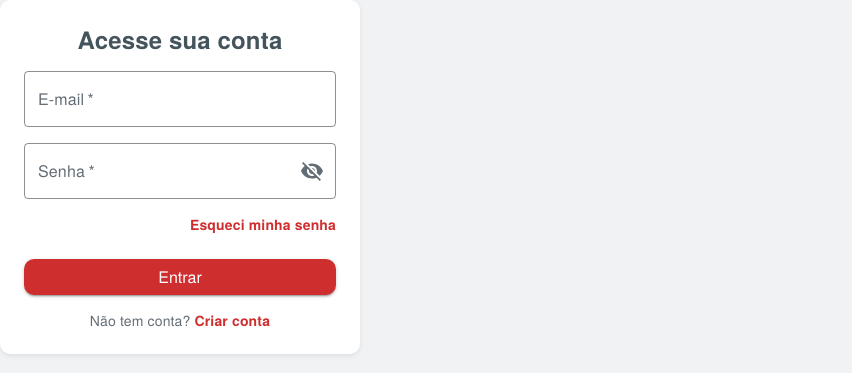
Test case: LandingLoginCard › should report invalid credentials when the api answers unauthorized
Step 1. Type "aluno.teste@aluno.cps.sp.gov.br" into the field labelled "E-mail *" → (180, 99), box top-left (24, 71), bottom-right (336, 127)
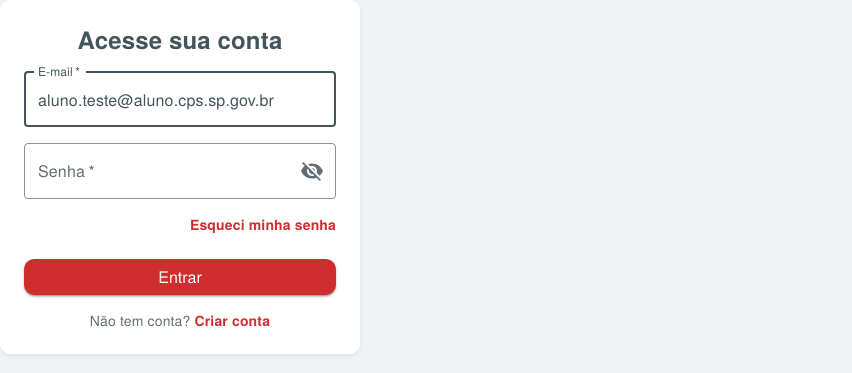
Step 2. Type "segredo-errado" into the password field labelled "Senha *" → (154, 171), box top-left (24, 143), bottom-right (284, 199)
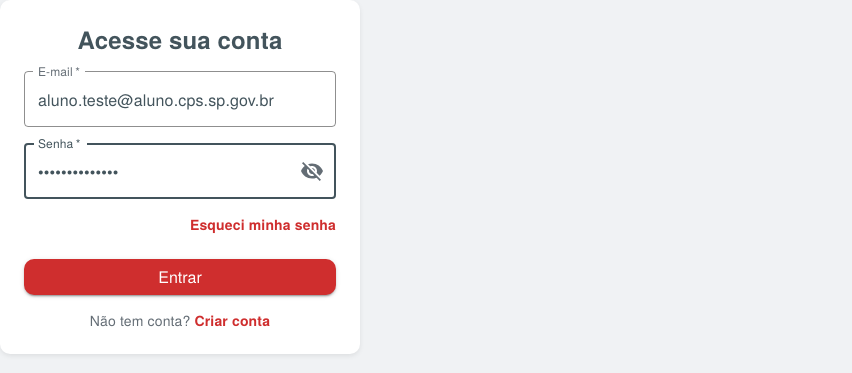
Step 3. Click the button "Entrar" → click(180, 277), box top-left (24, 259), bottom-right (336, 295)
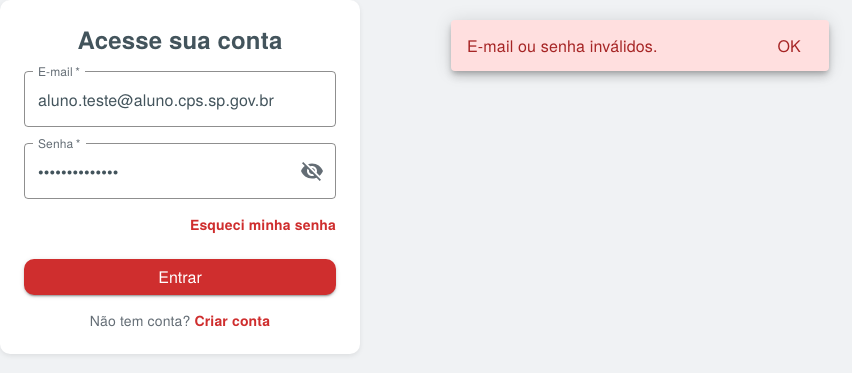
Expected: the text "E-mail ou senha inválidos." is shown, top-left (467, 34), bottom-right (658, 57)
